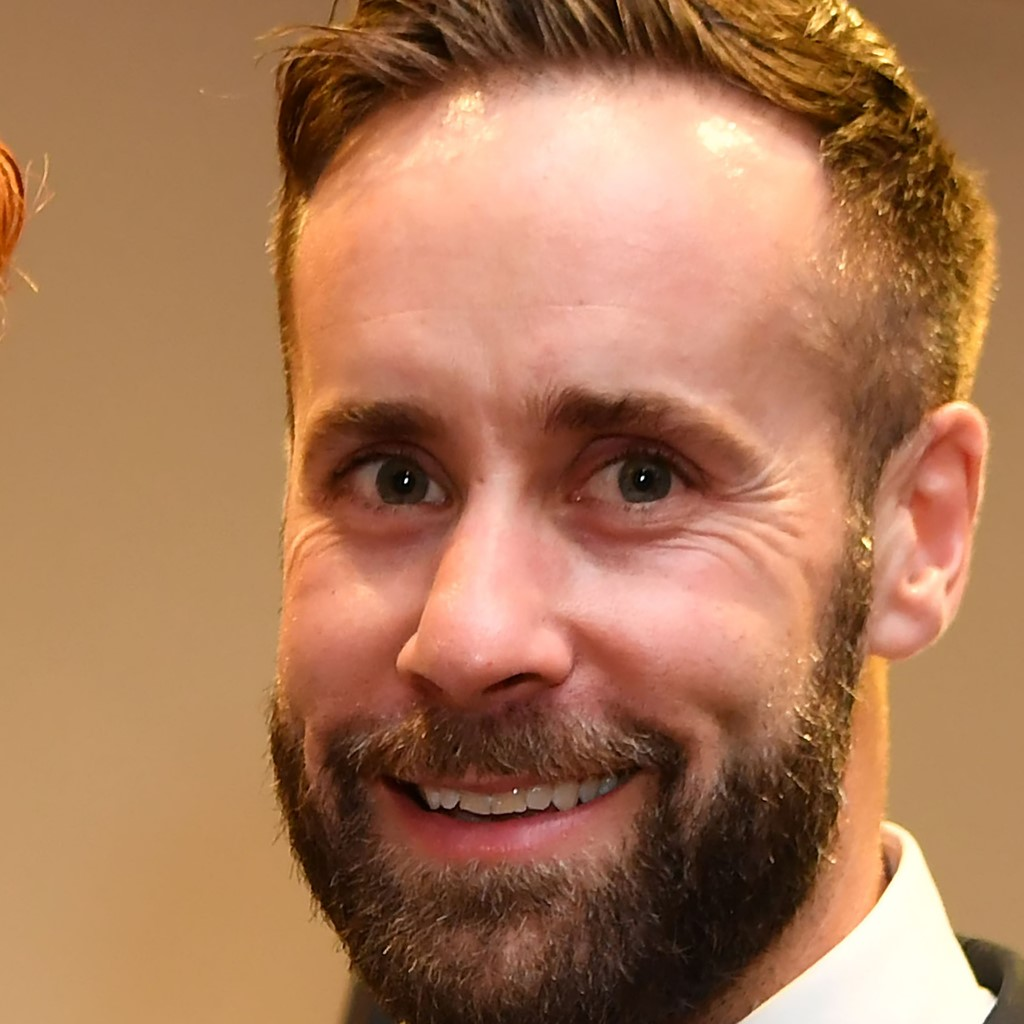sin_mascara: (276, 98, 901, 1001)
